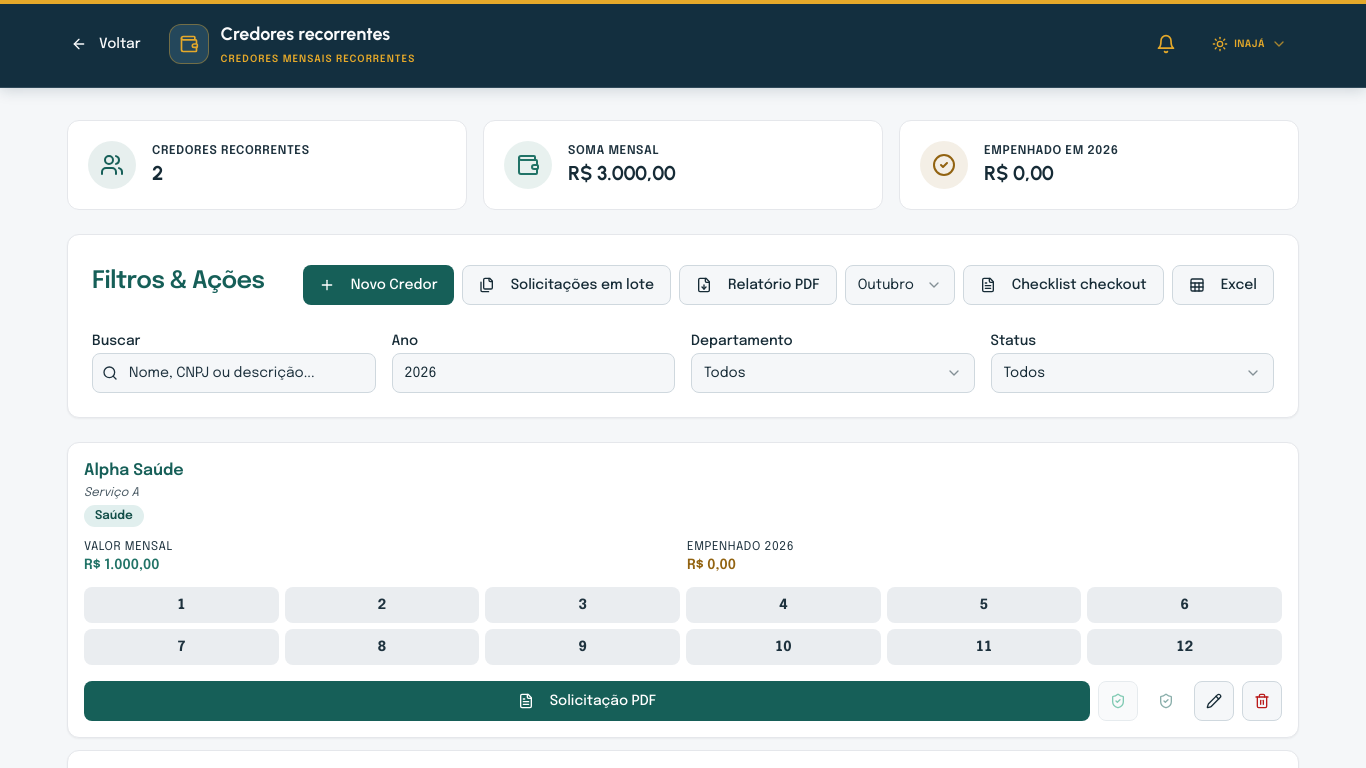
CredoresFixos – fluxo principal › gera solicitações em lote com os credores filtrados
Later steps or results of the test are not shown.
Expected: the text "Alpha Saúde" is shown, top-left (84, 459), bottom-right (184, 483)
Step 1. Click the dropdown named "Filtrar por departamento" → (725, 373), box top-left (691, 353), bottom-right (974, 393)
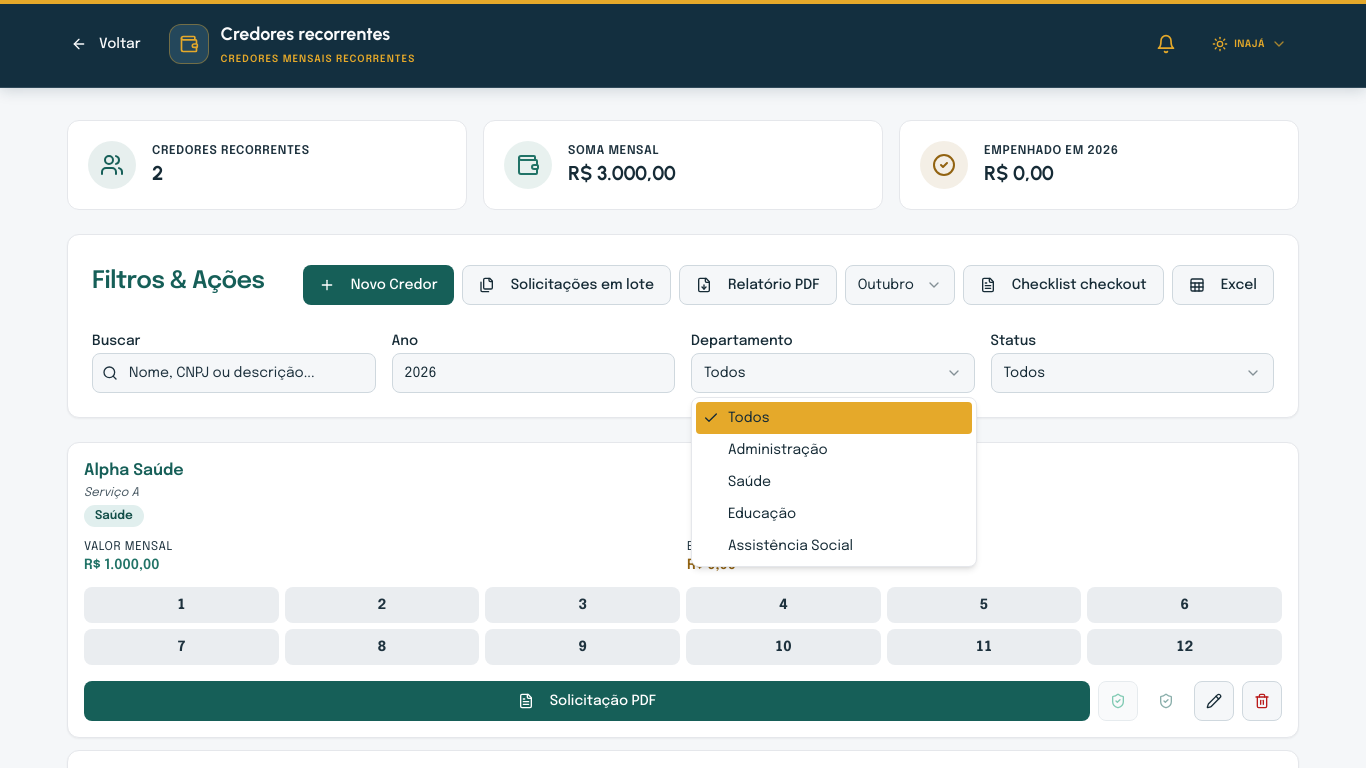
Step 2. Click the option "Saúde" → (750, 482), box top-left (728, 475), bottom-right (771, 489)
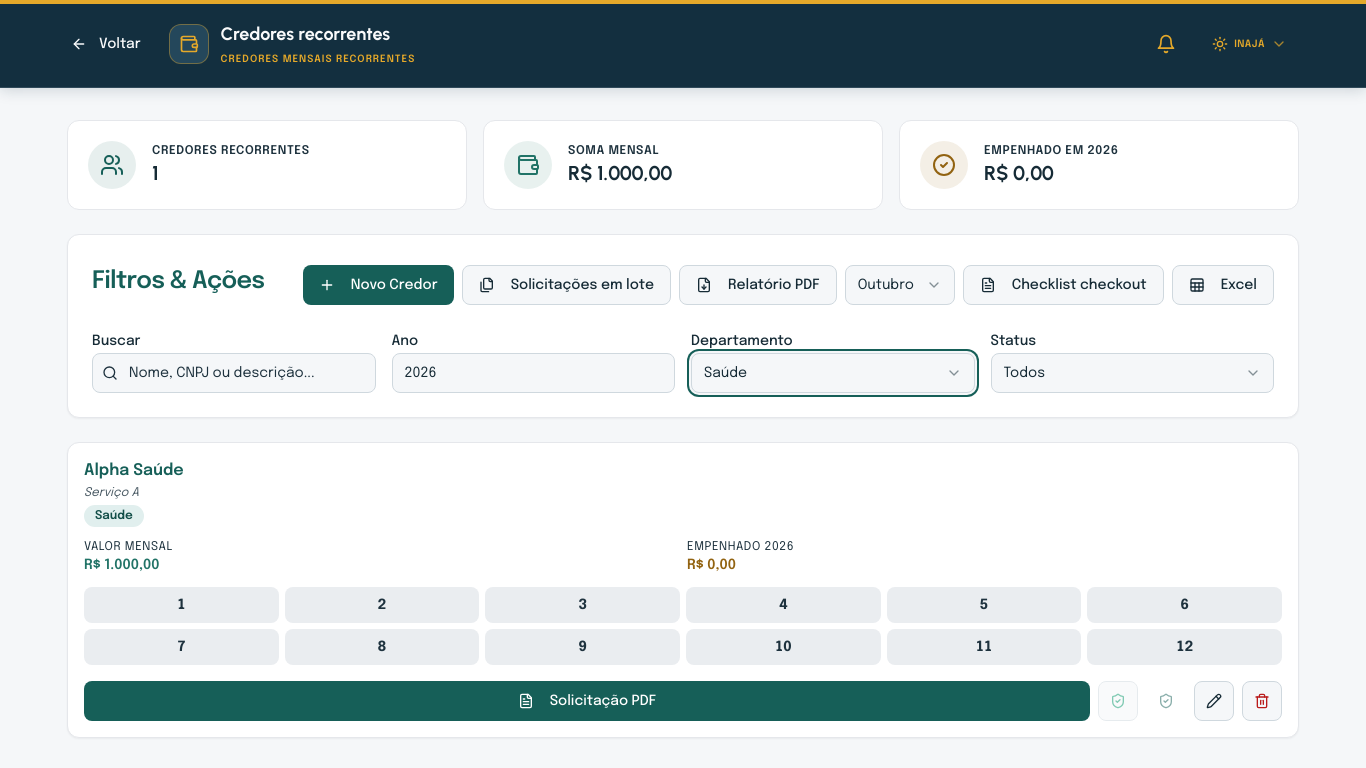
Step 3. Click the button "Solicitações em lote" → (566, 285), box top-left (462, 265), bottom-right (671, 305)
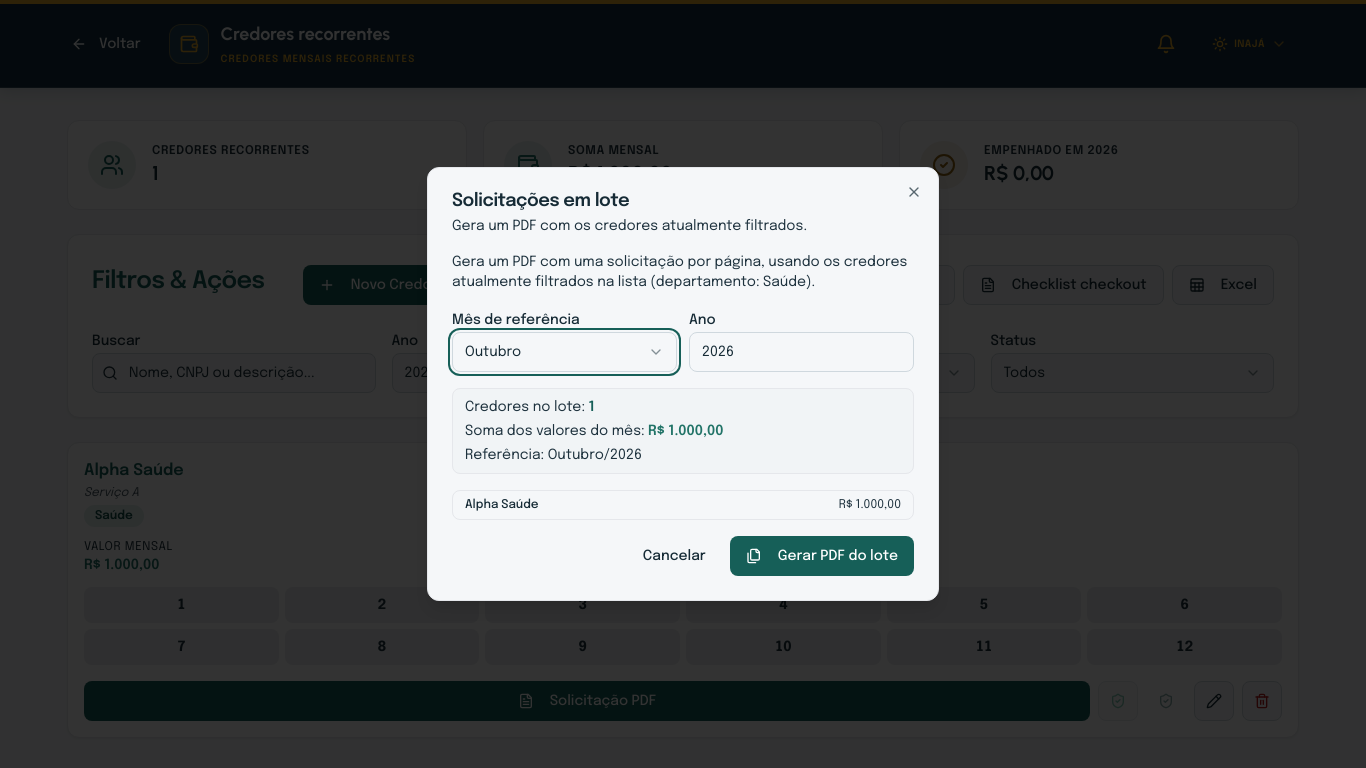
Now the heading "Solicitações em lote" is shown, box top-left (452, 192), bottom-right (629, 210)
Now the text "Alpha Saúde" is shown, box top-left (465, 497), bottom-right (539, 513)
Now the text "Credores no lote:" is shown, box top-left (465, 400), bottom-right (588, 414)
